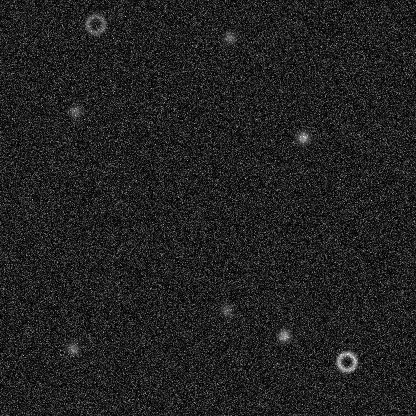Ring: (334, 349, 358, 373), (83, 12, 107, 36)
Spot: (295, 129, 311, 145), (221, 29, 237, 45), (64, 340, 80, 356), (218, 301, 234, 317), (276, 327, 292, 343), (67, 103, 83, 119)
